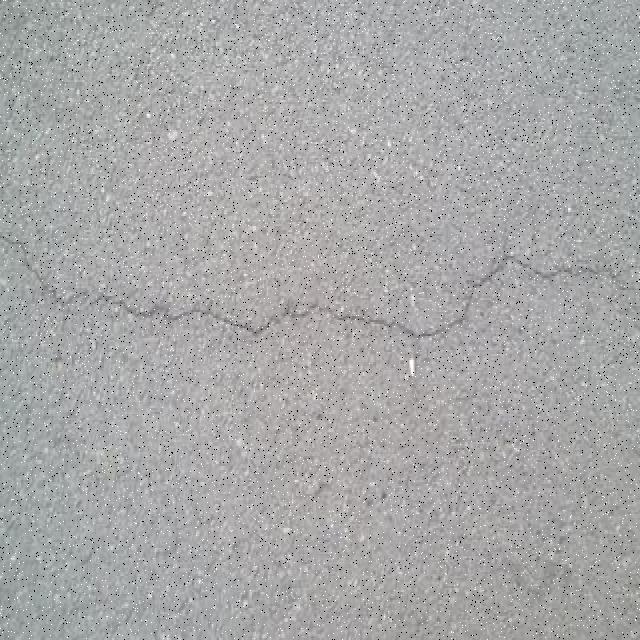minor crack: (368, 313, 447, 340), (452, 280, 483, 327)
moderate crack: (11, 231, 635, 357), (35, 326, 119, 425)
severe crack: (132, 295, 305, 335), (479, 248, 624, 286), (10, 237, 84, 309), (240, 319, 271, 336)
